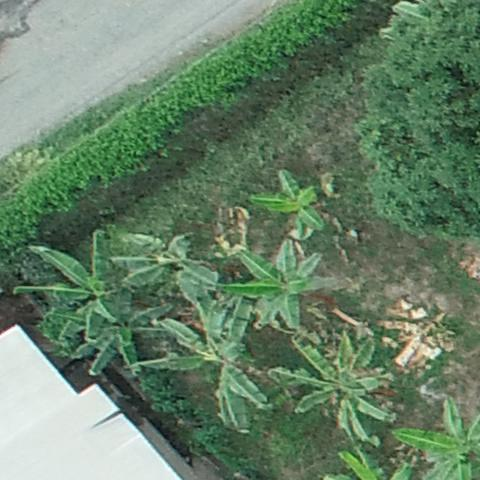Banana-plant: (9, 232, 160, 376), (138, 289, 282, 432), (271, 324, 389, 438), (223, 238, 336, 334), (392, 395, 480, 480), (246, 165, 335, 233), (123, 234, 220, 291)
